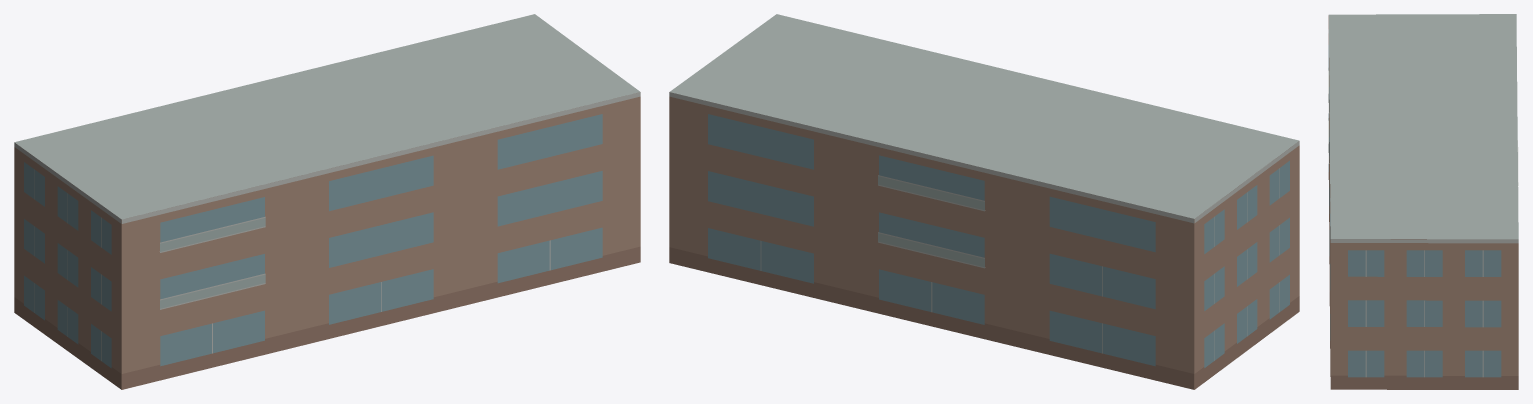
The model's file is survey-upis-32610868.glb.
The picture shows the model from 3 angles, left to right: view 1: azimuth 30°, elevation 25°; view 2: azimuth 150°, elevation 25°; view 3: azimuth 270°, elevation 25°; orthographic projection. The views are drawn at different scales.
Visible parts, largest first — view 1: survey-upis-32610868.tmp; view 2: survey-upis-32610868.tmp; view 3: survey-upis-32610868.tmp.
Part boxes in pixels (box(x1,y1,x2,y2)): survey-upis-32610868.tmp: box(14, 14, 640, 389); survey-upis-32610868.tmp: box(669, 14, 1299, 389); survey-upis-32610868.tmp: box(1328, 14, 1518, 389).
Size of the model in its own units: 29.35 by 9.15 by 10.49.
